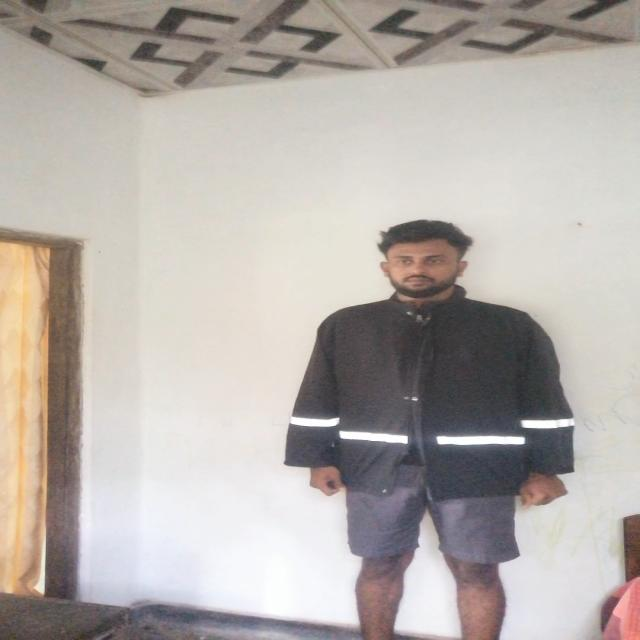Jacket_Wearer: (280, 294, 592, 512)
